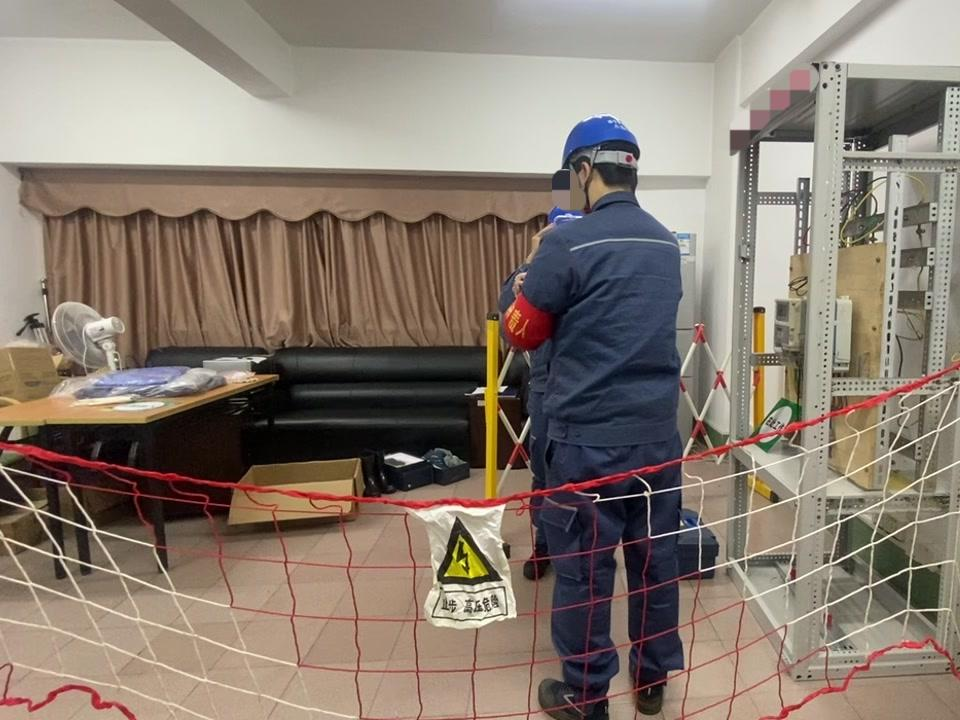halt: (559, 117, 645, 203)
inear: (572, 156, 601, 204)
